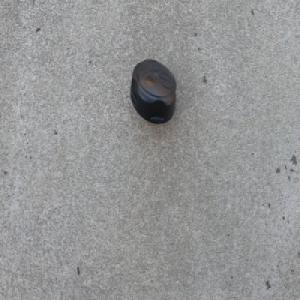FuelCap: (129, 58, 177, 127)
